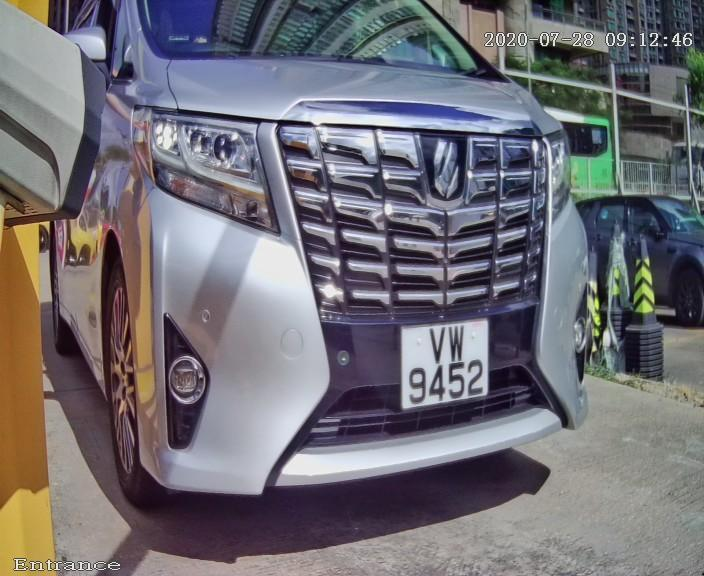privatecar: (16, 11, 695, 546)
